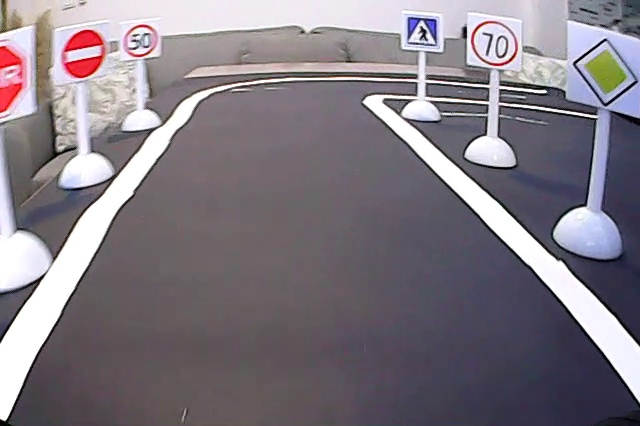do not enter: (58, 26, 109, 83)
pedestrian crossing: (404, 13, 440, 47)
speed limit 50: (121, 20, 159, 58)
speed limit 70: (467, 16, 521, 68)
